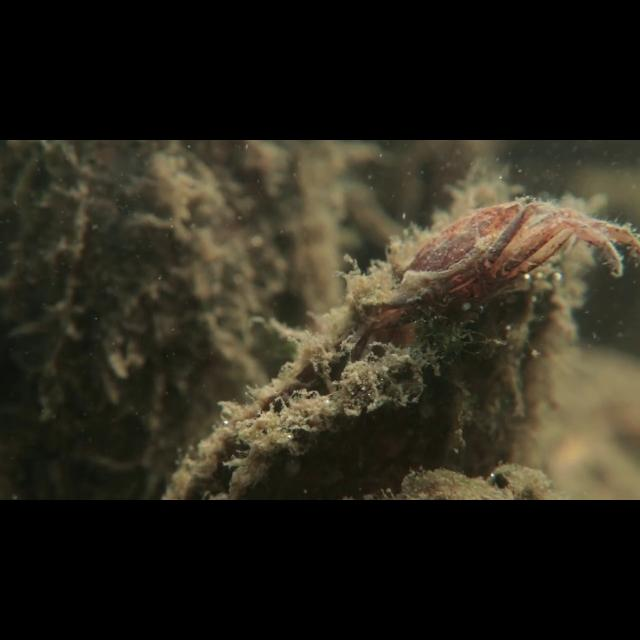Oyster-Open: (160, 190, 598, 498)
